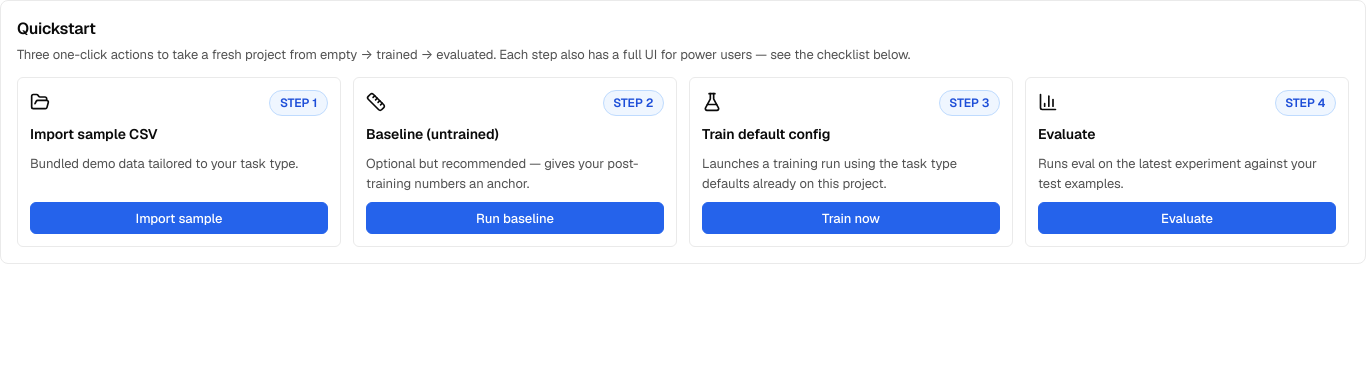
Test: QuickstartCard › runs Train Default and flips its badge to Done
The image size is (1366, 375).
Click the button with test id "quickstart-train-button": (851, 218) [702, 202, 1000, 234]
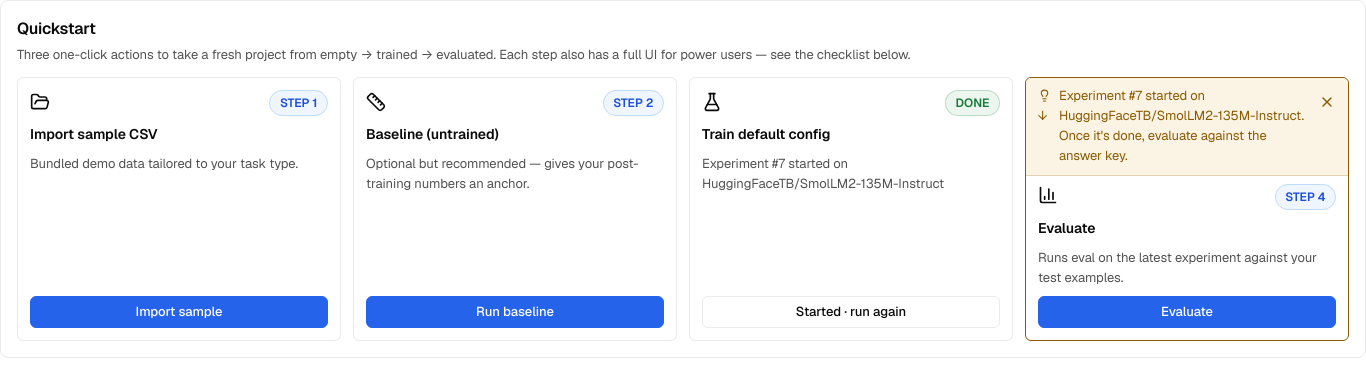
expect the text with test id "quickstart-train-badge" reads "Done": met, box [956, 95, 989, 111]
expect the text with test id "quickstart-train-description" shows "Experiment #7 started": met, box [702, 155, 944, 192]
